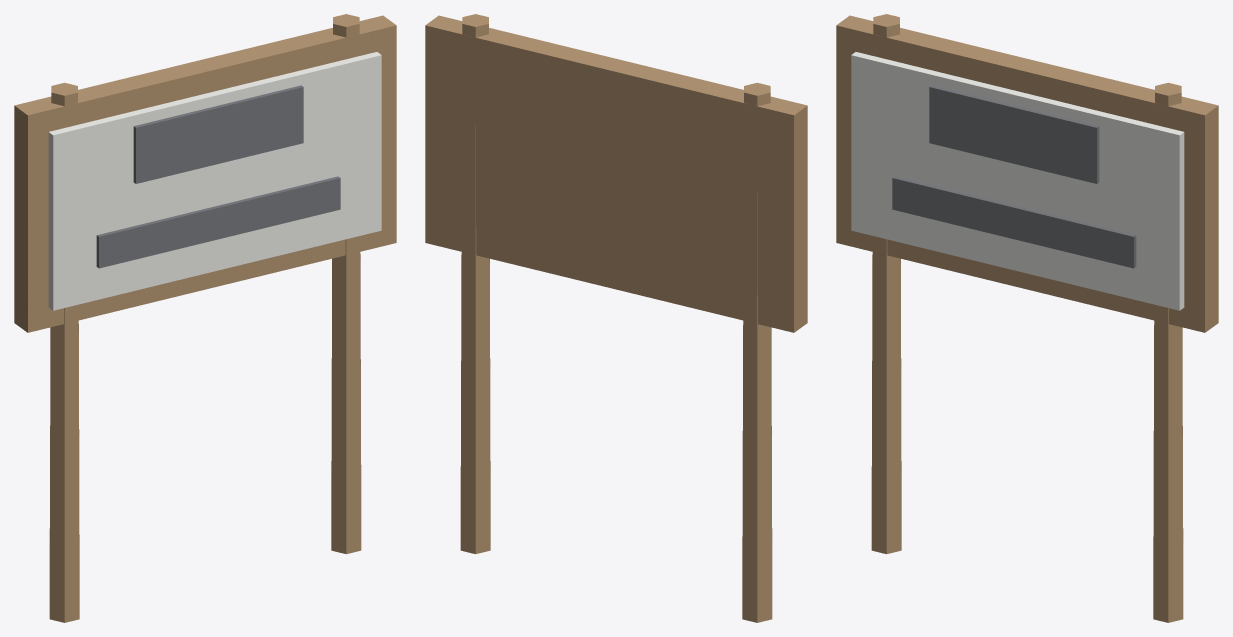
Rendered from golf-course-and-clubhouse-distance-sign-333fb6cb__33475.glb.
The picture shows the model from 3 angles, left to right: view 1: azimuth 30°, elevation 25°; view 2: azimuth 150°, elevation 25°; view 3: azimuth 330°, elevation 25°; orthographic projection.
Visible parts, largest first — view 1: distance-sign; view 2: distance-sign; view 3: distance-sign.
Boxes of the visible parts, left/top/right/bottom form: distance-sign: left=14, top=14, right=396, bottom=622; distance-sign: left=425, top=14, right=807, bottom=622; distance-sign: left=836, top=14, right=1218, bottom=622.
Bounding box in the file's own units: 1.1 × 1.5 × 0.113.
